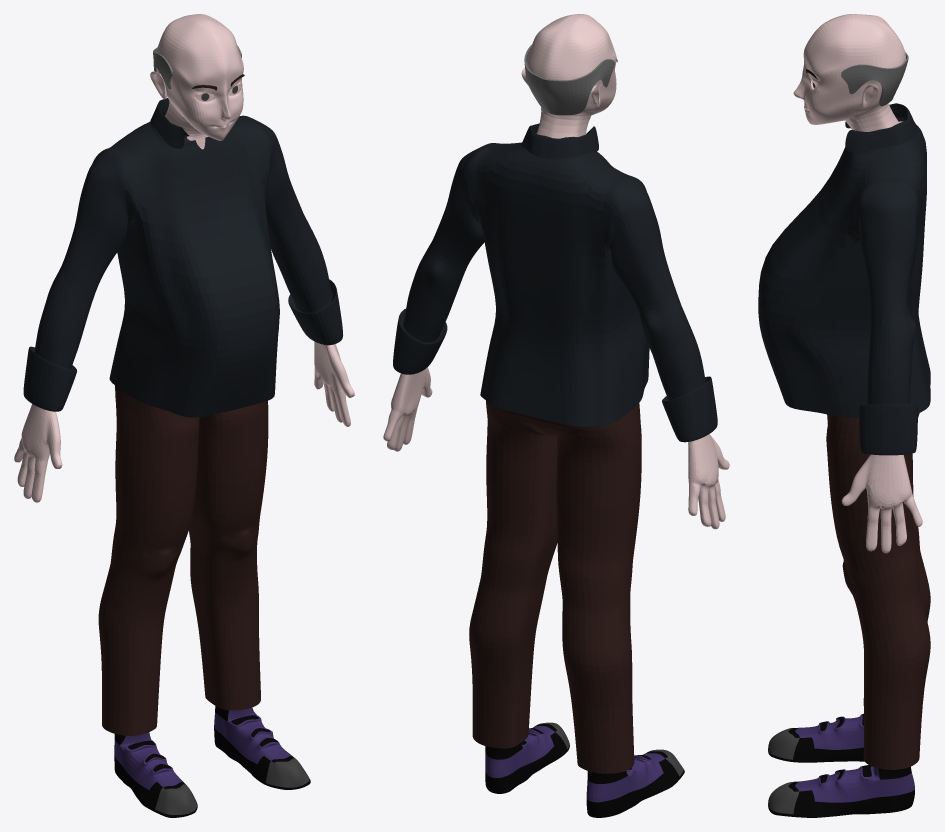
Rendered from jurij.fbx.
The picture shows the model from 3 angles, left to right: view 1: azimuth 30°, elevation 25°; view 2: azimuth 150°, elevation 25°; view 3: azimuth 270°, elevation 25°; orthographic projection.
Visible parts, largest first — view 1: ShirtCLOSED, Pants, Body, Shoes; view 2: ShirtCLOSED, Pants, Body, Shoes, Hair_Yuri; view 3: ShirtCLOSED, Pants, Body, Shoes, Hair_Yuri.
Part boxes in pixels (x1,y1,x2,y2): ShirtCLOSED: (23, 98, 342, 417); Pants: (98, 386, 268, 735); Body: (14, 14, 354, 502); Shoes: (114, 706, 310, 817); ShirtCLOSED: (393, 123, 717, 442); Pants: (469, 401, 641, 773); Body: (383, 14, 729, 529); Shoes: (485, 722, 684, 817); Hair_Yuri: (524, 45, 614, 115); ShirtCLOSED: (758, 103, 930, 455); Pants: (826, 413, 930, 769); Body: (793, 14, 922, 553); Shoes: (768, 713, 914, 817); Hair_Yuri: (841, 52, 908, 106).
Bounding box in the file's own units: 80.87 × 182 × 37.25.
